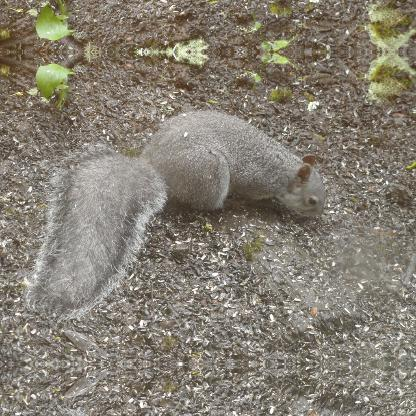Squirrel: (24, 107, 326, 327)
